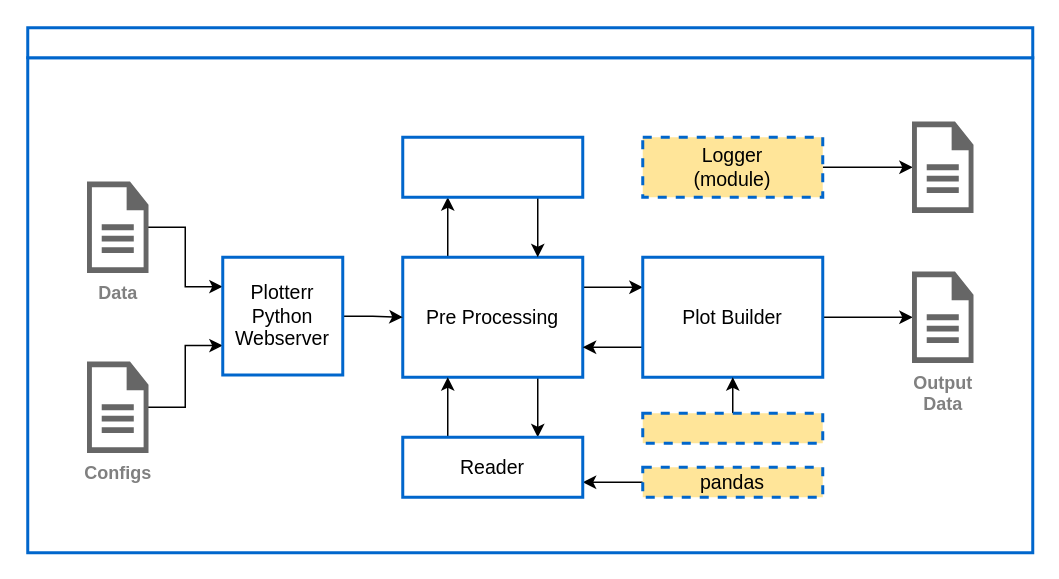
The diagram is 1059 pixels wide and 579 high, and some of its shapes have lost their labels. Each missing label, with the centre of its shape:
"Log" belongs at pixel 942 166.
"matplotlb" belongs at pixel 732 427.
"Project Architecture - Low Level Design - Plotter Engine" belongs at pixel 530 42.
"Validator" belongs at pixel 492 166.
